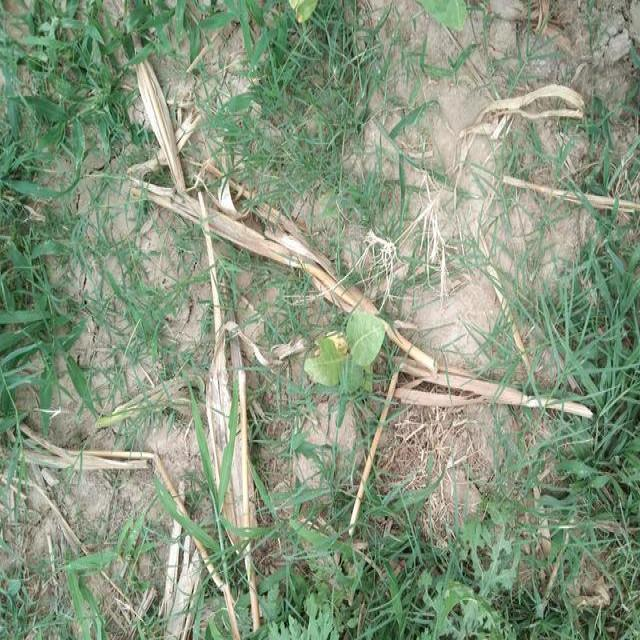crop: (285, 289, 410, 408)
